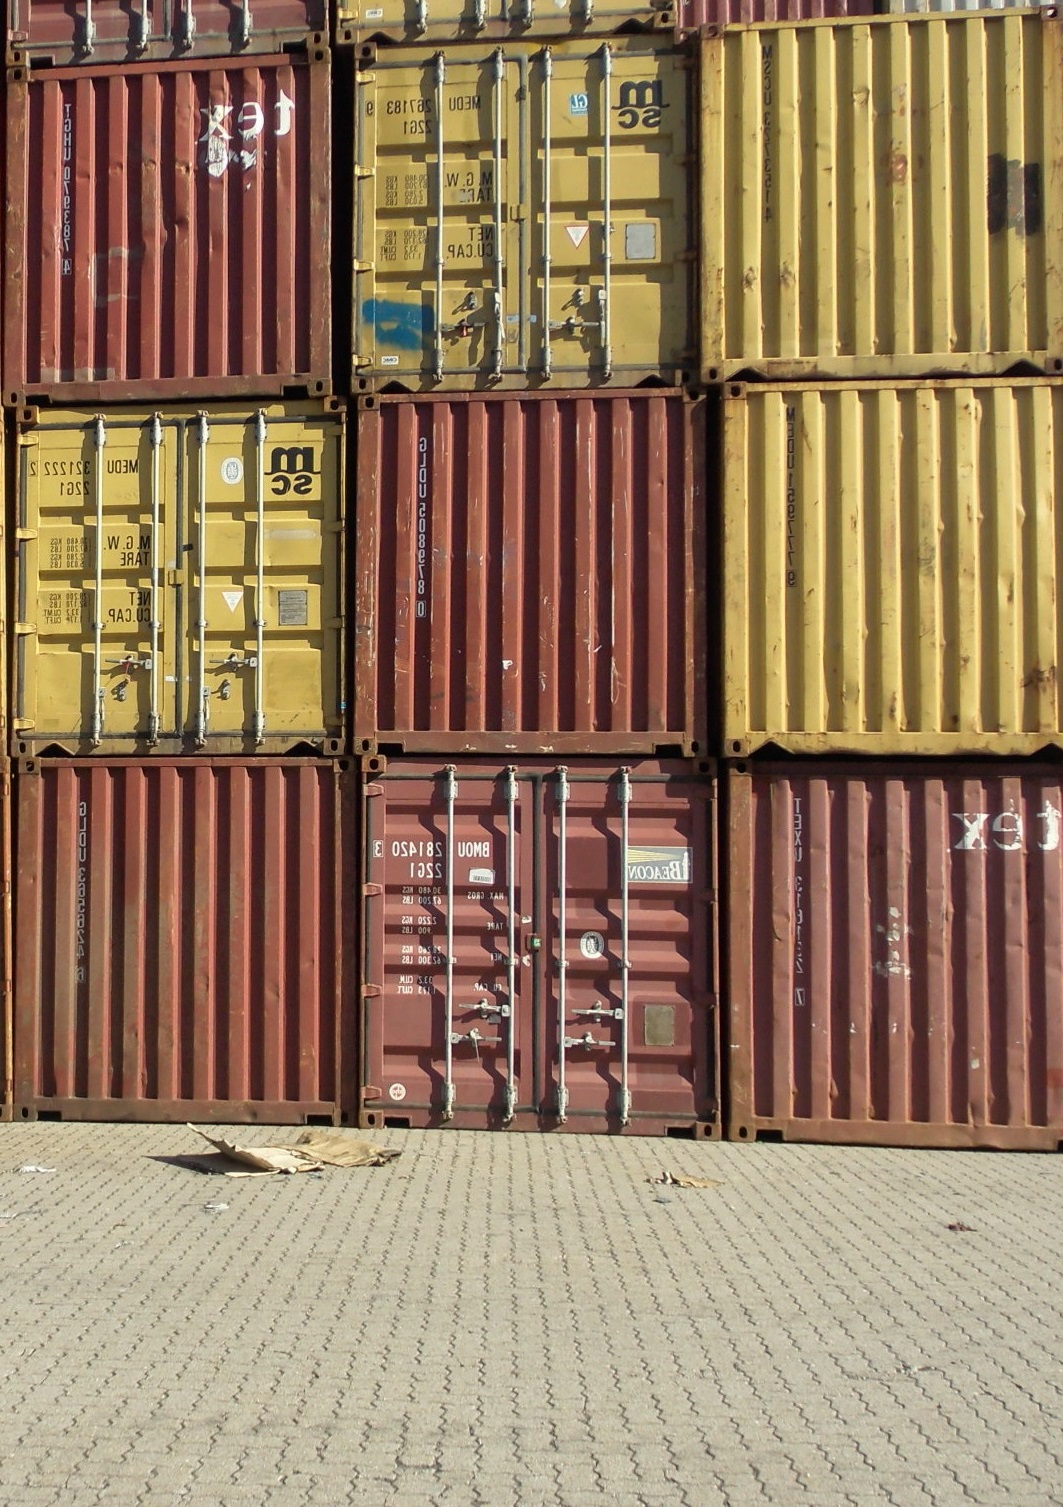container_door: (354, 753, 716, 1135), (343, 40, 698, 392), (14, 406, 343, 758)
container_no_door: (698, 6, 1062, 381), (350, 387, 714, 752), (721, 760, 1058, 1146), (721, 381, 1063, 753), (14, 765, 344, 1125), (6, 49, 331, 408)
